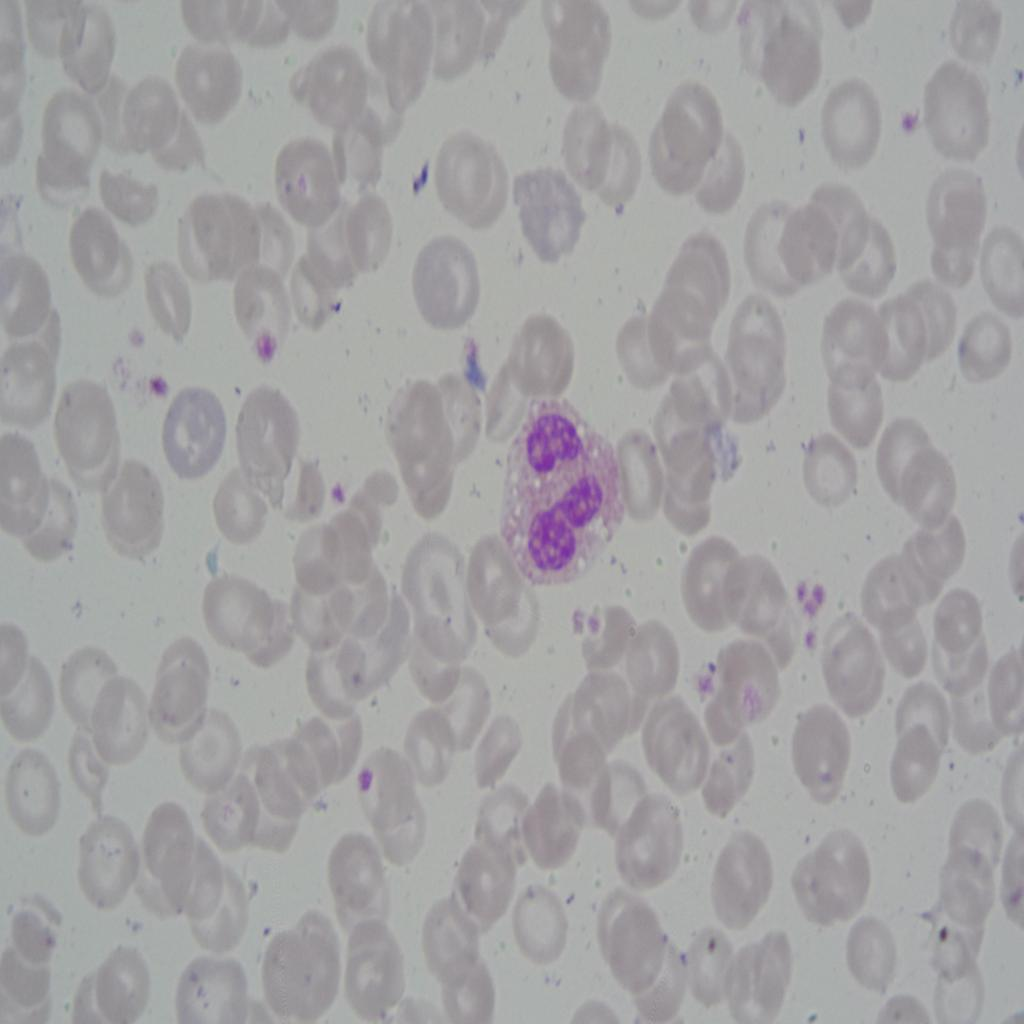Eosinofil: (494, 388, 622, 592)
Platelet: (245, 322, 286, 379), (347, 752, 382, 807), (323, 464, 357, 513), (692, 662, 721, 712), (896, 91, 923, 134), (146, 369, 174, 409), (568, 610, 593, 650), (804, 619, 821, 662), (804, 590, 824, 624), (588, 606, 606, 642), (790, 570, 808, 602), (812, 576, 826, 613)
